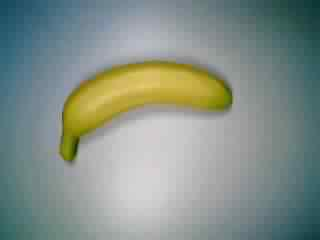banana: (56, 57, 236, 165)
